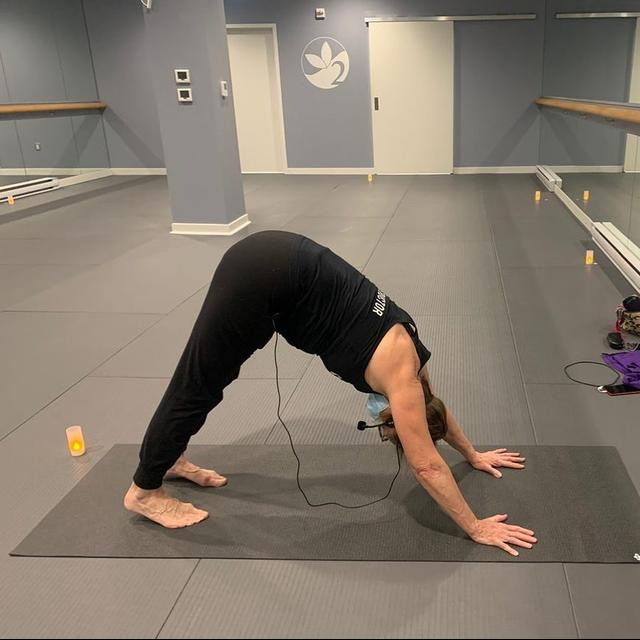Downward-Facing_Dog: (120, 224, 541, 561)
